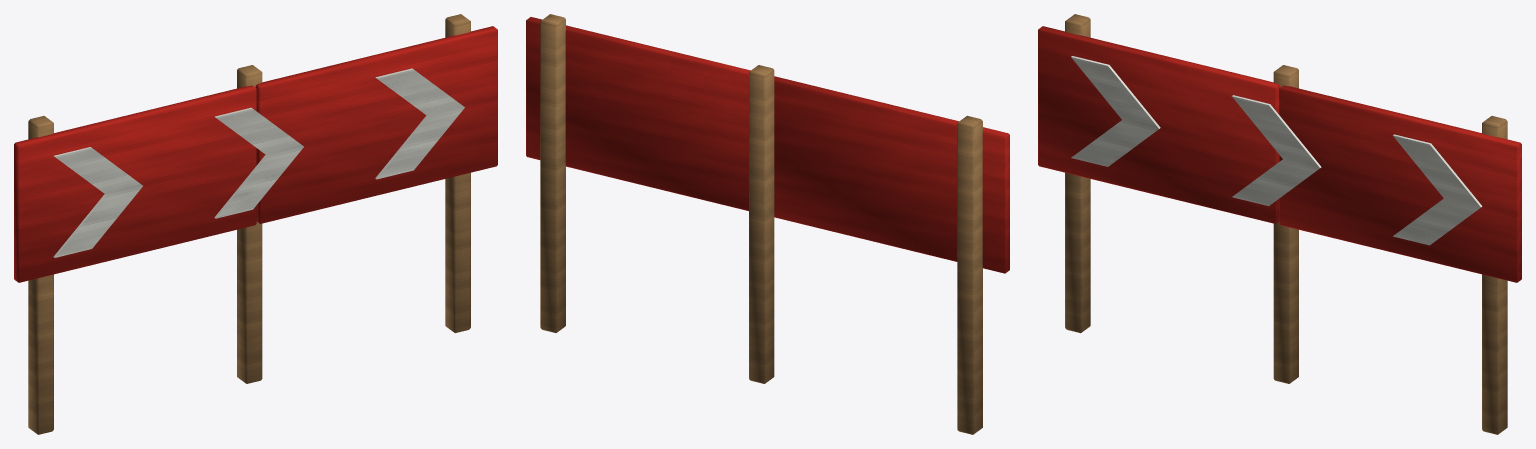
File: placa_chevron_tripla.glb
3 views of the same model, side by side, from view 1: azimuth 30°, elevation 25°; view 2: azimuth 150°, elevation 25°; view 3: azimuth 330°, elevation 25° (orthographic).
Visible parts, largest first — view 1: Inteiro, Peca_04, Peca_03; view 2: Inteiro, Peca_03, Peca_04; view 3: Inteiro, Peca_03, Peca_04.
Boxes of the visible parts, x1,y1,x2,y2 form: Inteiro: (14,14,497,434); Peca_04: (214,26,497,218); Peca_03: (14,85,256,281); Inteiro: (526,14,1009,434); Peca_03: (774,76,1009,273); Peca_04: (526,17,750,196); Inteiro: (1038,14,1520,434); Peca_03: (1038,26,1279,205); Peca_04: (1232,86,1521,280).
Size of the model in its own units: 2.19 by 1.35 by 0.122.
1 material, 1 textured.
